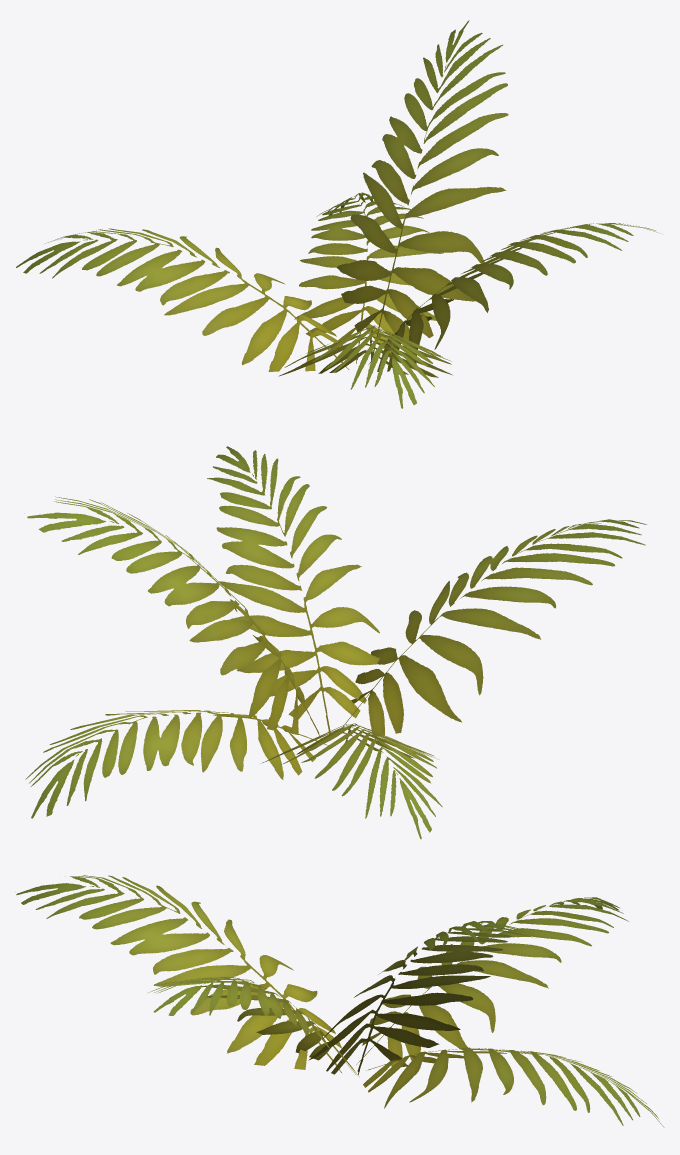
Rendered from fern 02.obj.
3 views of the same model, one above another, from view 1: azimuth 30°, elevation 25°; view 2: azimuth 150°, elevation 25°; view 3: azimuth 270°, elevation 25° (orthographic). The views are drawn at different scales.
Visible parts, largest first — view 1: tree; view 2: tree; view 3: tree.
Part boxes in pixels (bbox=[...]): tree: bbox=[16, 20, 660, 408]; tree: bbox=[24, 446, 646, 839]; tree: bbox=[16, 875, 664, 1127].
Size of the model in its own units: 135 by 71.25 by 176.
